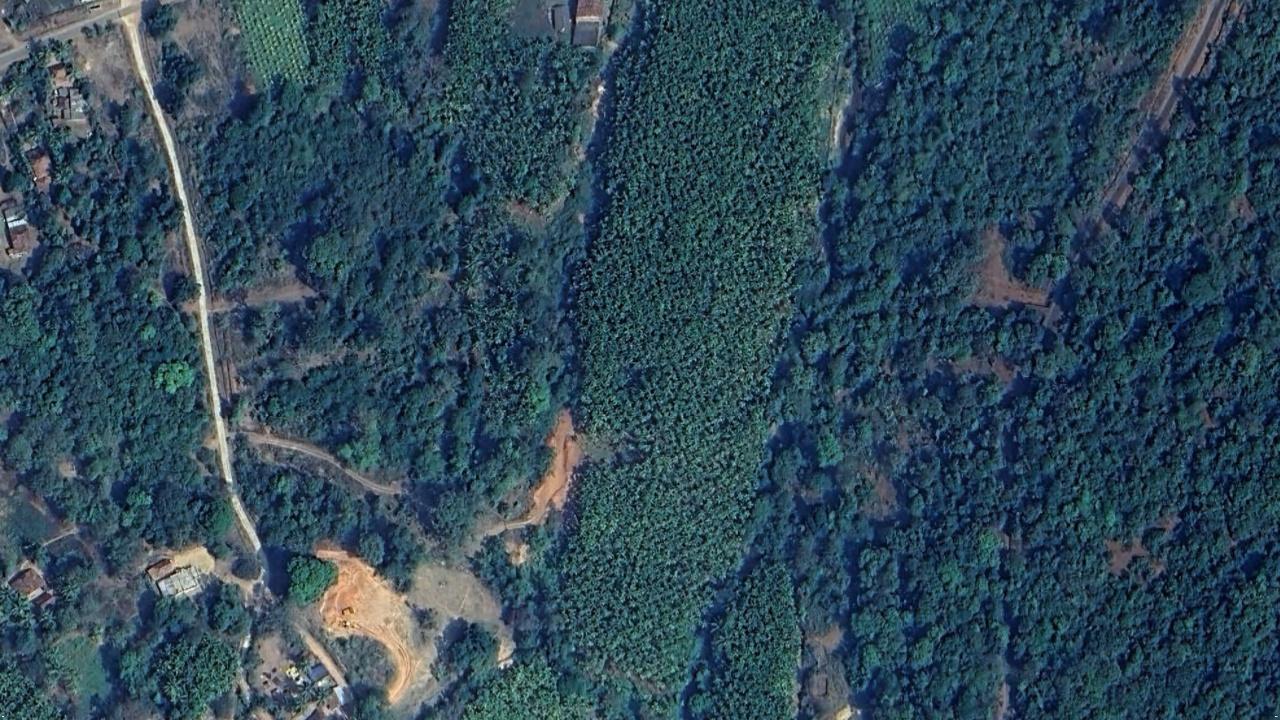arecanut: (431, 7, 857, 720)
